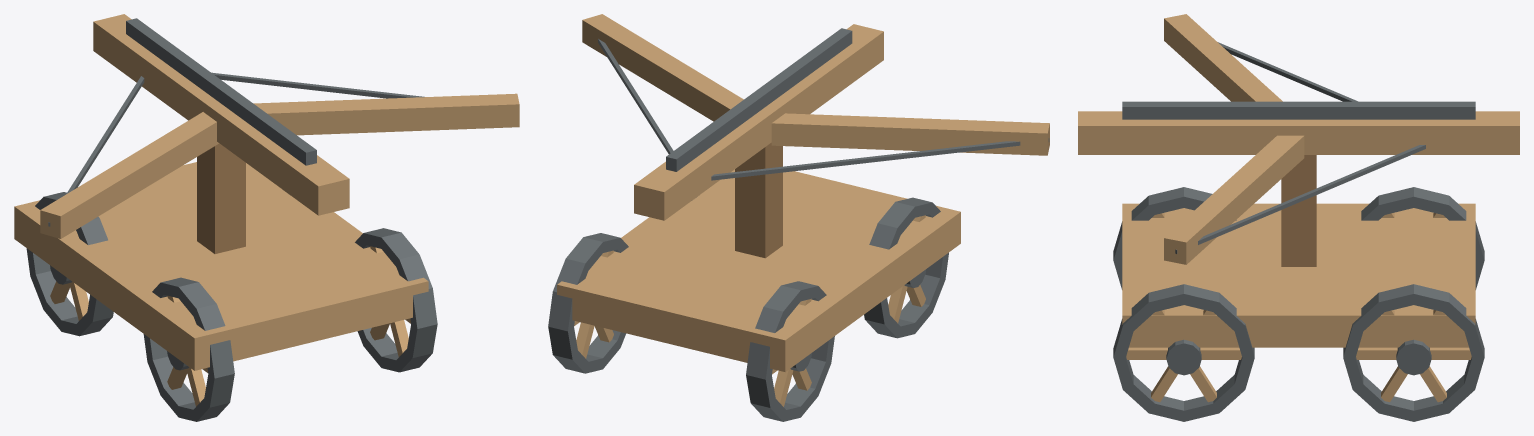
File: ballista.glb
The picture shows the model from 3 angles, left to right: view 1: azimuth 30°, elevation 25°; view 2: azimuth 150°, elevation 25°; view 3: azimuth 270°, elevation 25°; orthographic projection. The views are drawn at different scales.
Parts seen in each view (by area): view 1: ballista; view 2: ballista; view 3: ballista.
Part boxes in pixels (x1,y1,x2,y2): ballista: [14, 14, 519, 421]; ballista: [548, 14, 1049, 421]; ballista: [1078, 14, 1519, 421].
Bounding box in the file's own units: 3.06 × 1.62 × 2.5.
